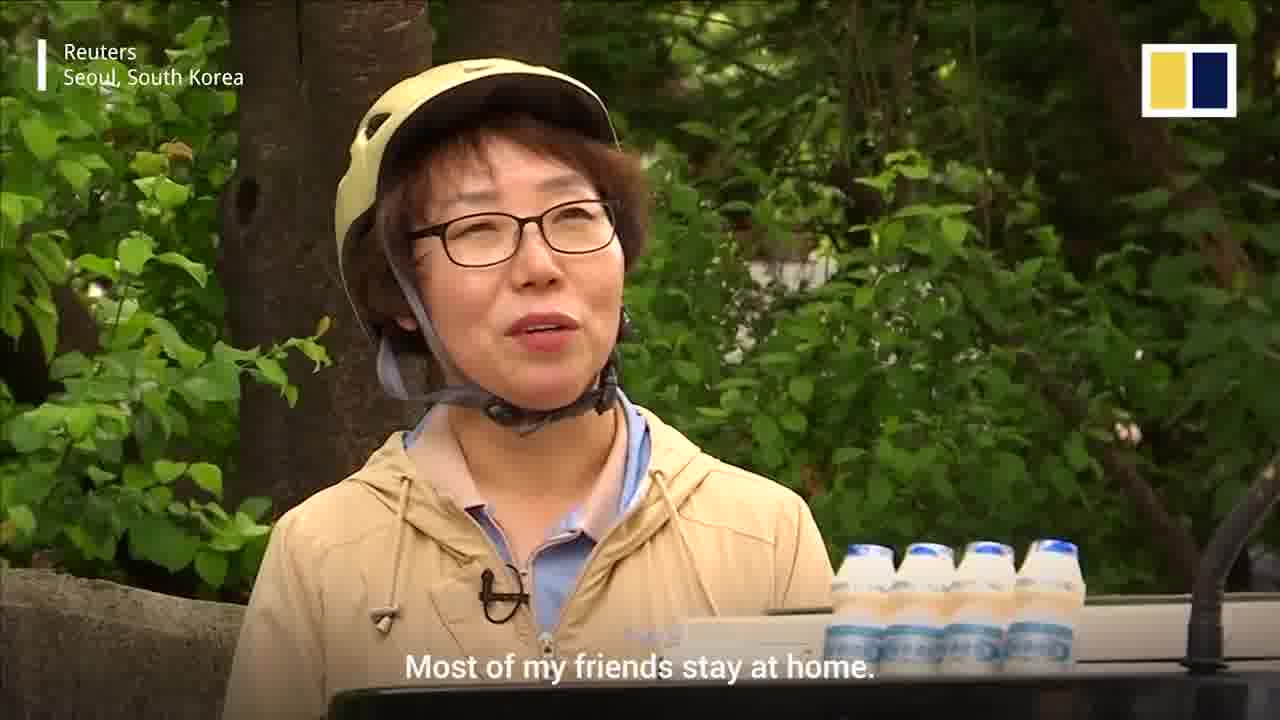Yakurut: (162, 42, 837, 685)
